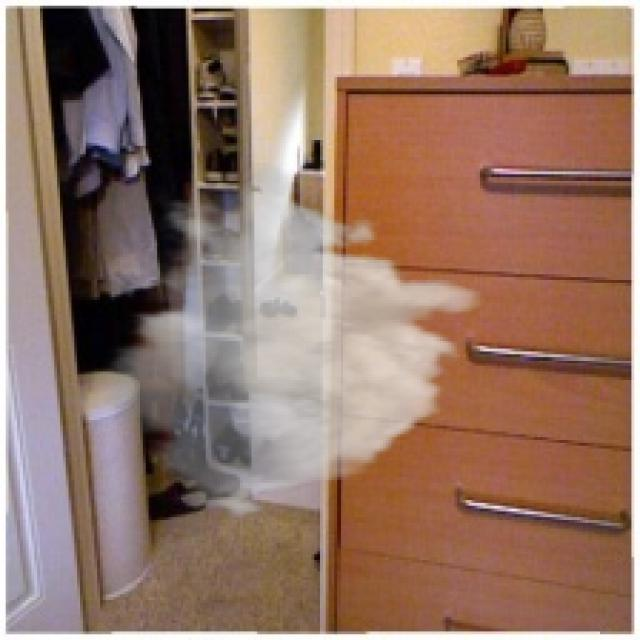smoke: (91, 163, 488, 520)
